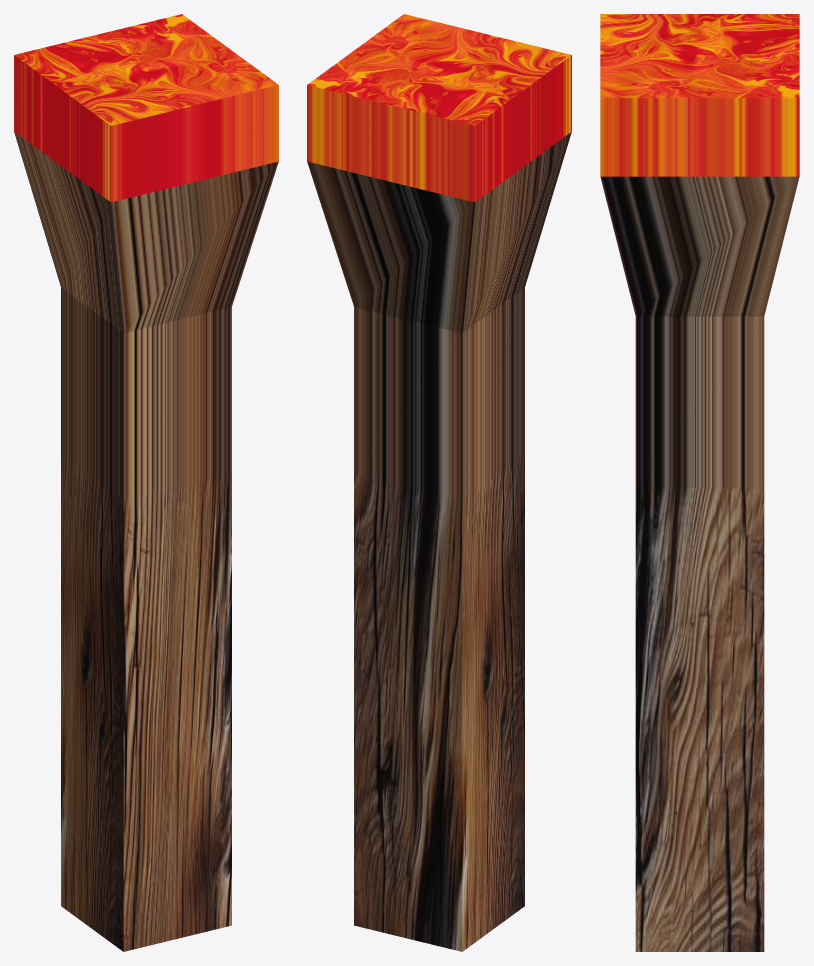
File: torch.glb
3 views of the same model, side by side, from view 1: azimuth 30°, elevation 25°; view 2: azimuth 150°, elevation 25°; view 3: azimuth 270°, elevation 25° (orthographic). The views are drawn at different scales.
Visible parts, largest first — view 1: Cube; view 2: Cube; view 3: Cube.
Boxes of the visible parts, x1=… form: Cube: x1=14, y1=14, x2=278, y2=951; Cube: x1=307, y1=14, x2=571, y2=951; Cube: x1=600, y1=14, x2=799, y2=951.
Bounding box in the file's own units: 0.7754 × 3.73 × 0.7754.
Materials: 2 (2 with a texture image).
